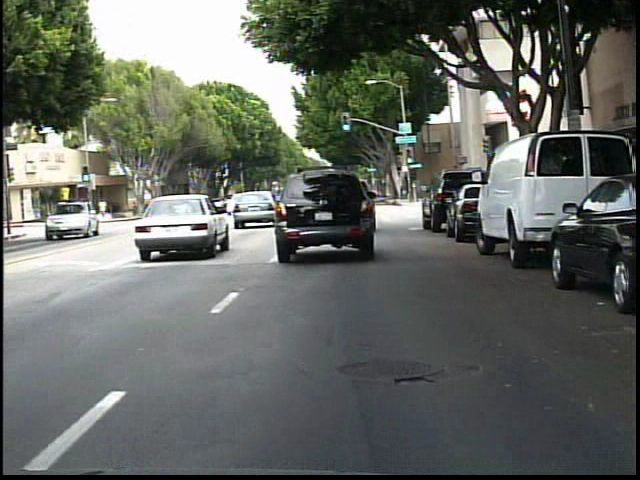person: (99, 197, 110, 221)
